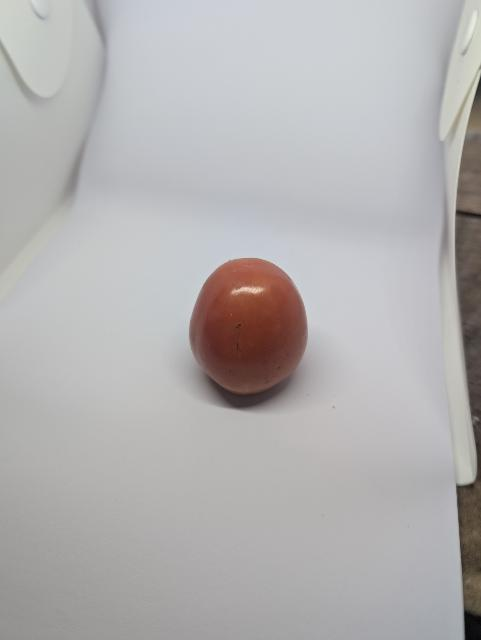red: (182, 247, 323, 407)
